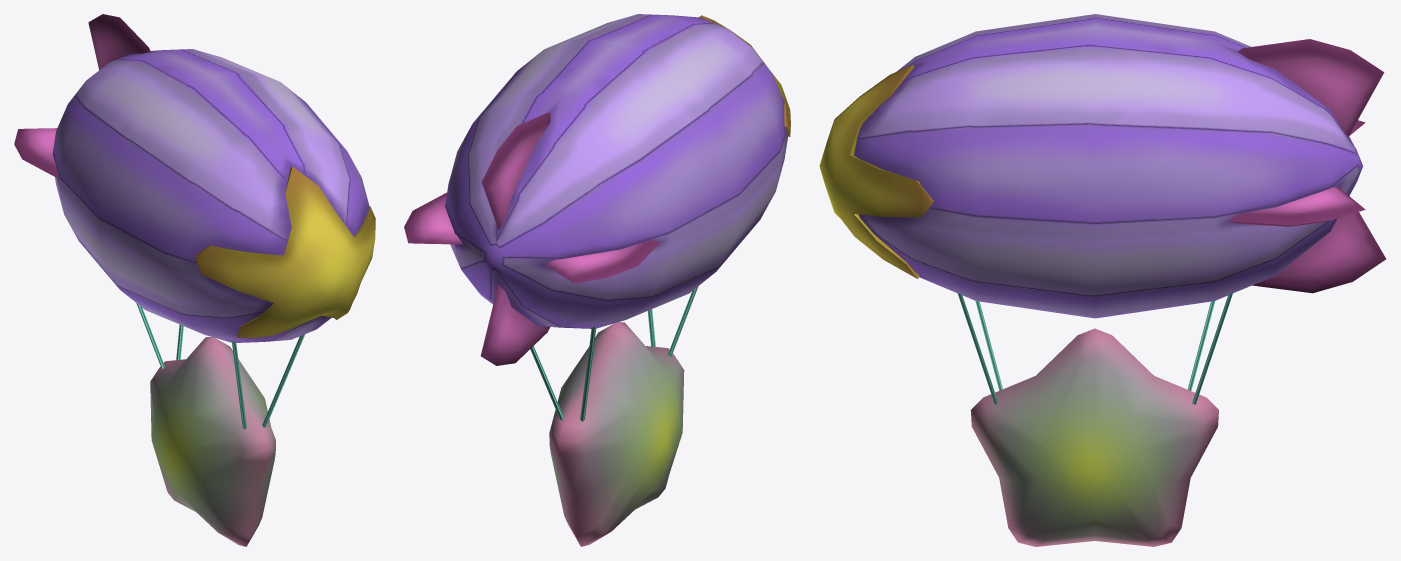
File: BgMD_airship.fbx
3 views of the same model, side by side, from view 1: azimuth 30°, elevation 25°; view 2: azimuth 150°, elevation 25°; view 3: azimuth 270°, elevation 25° (orthographic). The views are drawn at different scales.
Parts seen in each view (by area): view 1: polySurface3; view 2: polySurface3; view 3: polySurface3.
Part boxes in pixels (x1,y1,x2,y2): polySurface3: (14, 14, 375, 546); polySurface3: (404, 14, 790, 546); polySurface3: (819, 14, 1385, 546).
Size of the model in its own units: 8.75 by 16.36 by 16.17.
